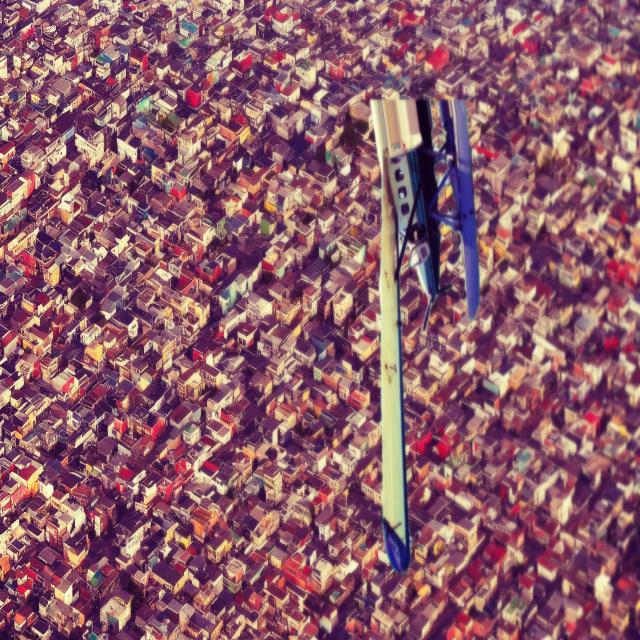airplane: (369, 92, 480, 573)
